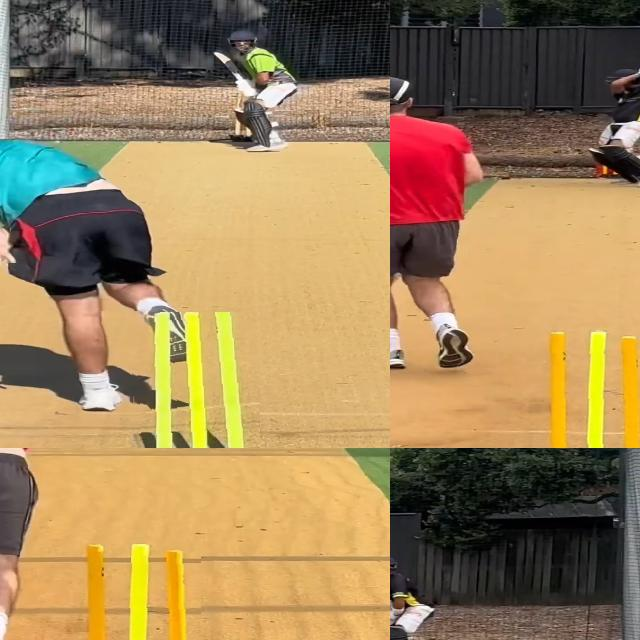Stumps: (129, 312, 259, 448), (67, 539, 201, 640), (533, 330, 640, 448)
